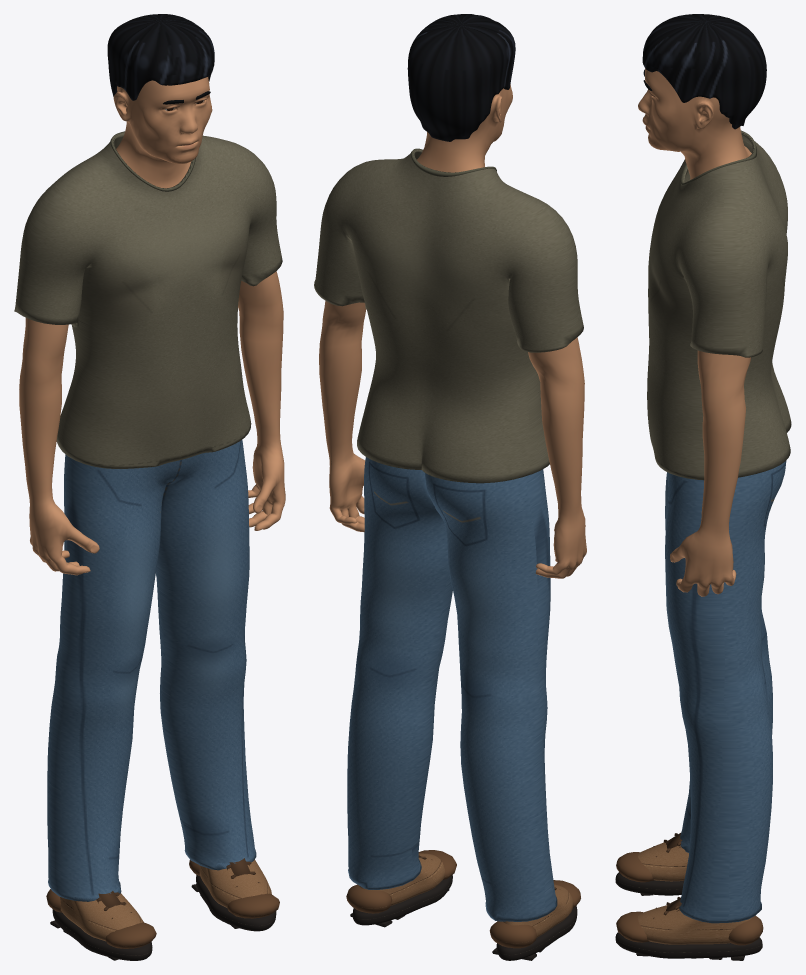
File: alex_wen_set01_v3.glb
3 views of the same model, side by side, from view 1: azimuth 30°, elevation 25°; view 2: azimuth 150°, elevation 25°; view 3: azimuth 270°, elevation 25° (orthographic).
Visible parts, largest first — view 1: Legs_Jeans, Torso_TShirt, Arms_Skin, Head_Skin, Head_Hair_Cap, Legs_Shoe_Upper_R, Legs_Shoe_Upper_L, Legs_Shoe_Sole_R, Legs_Shoe_Sole_L, Legs_Shoe_ToeCap_L, Legs_Shoe_ToeCap_R; view 2: Legs_Jeans, Torso_TShirt, Arms_Skin, Head_Hair_Cap, Head_Skin, Legs_Shoe_Sole_L, Legs_Shoe_Upper_L, Legs_Shoe_Sole_R, Legs_Shoe_Upper_R, Legs_Shoe_HeelCap_R, Legs_Shoe_HeelCap_L; view 3: Legs_Jeans, Torso_TShirt, Arms_Skin, Head_Hair_Cap, Head_Skin, Legs_Shoe_Upper_L, Legs_Shoe_Sole_L, Legs_Shoe_Upper_R, Legs_Shoe_Sole_R, Legs_Shoe_ToeCap_R, Legs_Shoe_HeelCap_L, Legs_Shoe_ToeCap_L.
Part boxes in pixels (x1=…): Legs_Jeans: x1=47, y1=440, x2=255, y2=897; Torso_TShirt: x1=14, y1=132, x2=282, y2=468; Arms_Skin: x1=19, y1=271, x2=285, y2=575; Head_Skin: x1=113, y1=77, x2=212, y2=188; Head_Hair_Cap: x1=107, y1=14, x2=214, y2=100; Legs_Shoe_Upper_R: x1=60, y1=893, x2=143, y2=941; Legs_Shoe_Upper_L: x1=199, y1=859, x2=271, y2=907; Legs_Shoe_Sole_R: x1=52, y1=909, x2=152, y2=960; Legs_Shoe_Sole_L: x1=196, y1=875, x2=276, y2=931; Legs_Shoe_ToeCap_L: x1=227, y1=893, x2=279, y2=918; Legs_Shoe_ToeCap_R: x1=105, y1=922, x2=156, y2=948; Legs_Jeans: x1=347, y1=457, x2=556, y2=918; Torso_TShirt: x1=314, y1=149, x2=583, y2=483; Arms_Skin: x1=319, y1=301, x2=586, y2=578; Head_Hair_Cap: x1=407, y1=14, x2=515, y2=141; Head_Skin: x1=416, y1=84, x2=512, y2=172; Legs_Shoe_Sole_L: x1=352, y1=875, x2=452, y2=925; Legs_Shoe_Upper_L: x1=359, y1=853, x2=444, y2=905; Legs_Shoe_Sole_R: x1=496, y1=906, x2=577, y2=960; Legs_Shoe_Upper_R: x1=503, y1=884, x2=573, y2=937; Legs_Shoe_HeelCap_R: x1=489, y1=921, x2=537, y2=948; Legs_Shoe_HeelCap_L: x1=346, y1=884, x2=392, y2=913; Legs_Jeans: x1=665, y1=461, x2=786, y2=919; Torso_TShirt: x1=647, y1=131, x2=791, y2=480; Arms_Skin: x1=670, y1=350, x2=750, y2=596; Head_Hair_Cap: x1=642, y1=14, x2=766, y2=129; Head_Skin: x1=638, y1=68, x2=751, y2=179; Legs_Shoe_Upper_L: x1=637, y1=905, x2=751, y2=944; Legs_Shoe_Sole_L: x1=615, y1=932, x2=762, y2=958; Legs_Shoe_Upper_R: x1=638, y1=842, x2=688, y2=881; Legs_Shoe_Sole_R: x1=615, y1=872, x2=683, y2=895; Legs_Shoe_ToeCap_R: x1=616, y1=852, x2=653, y2=882; Legs_Shoe_HeelCap_L: x1=728, y1=915, x2=763, y2=945; Legs_Shoe_ToeCap_L: x1=616, y1=911, x2=649, y2=942.
Bounding box in the file's own units: 0.5349 × 1.78 × 0.3172.
1 material, 1 textured.
